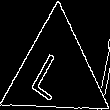L_NE: (33, 43, 80, 101)
